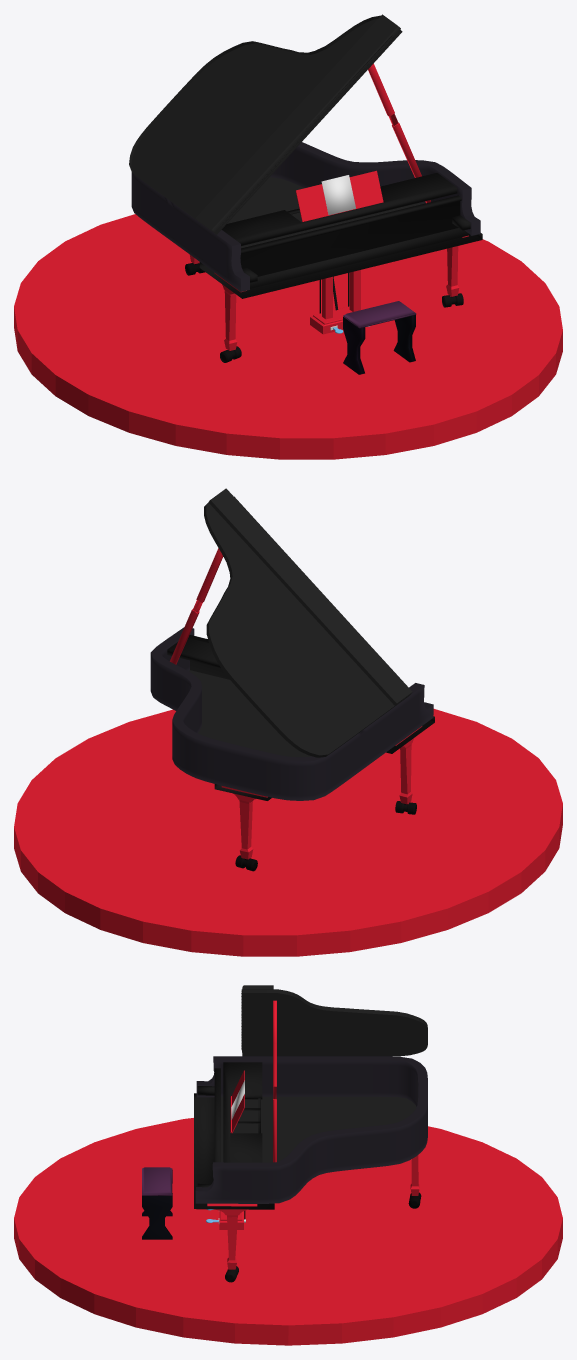
The model's file is piyanocn.glb.
3 views of the same model, one above another, from view 1: azimuth 30°, elevation 25°; view 2: azimuth 150°, elevation 25°; view 3: azimuth 270°, elevation 25° (orthographic). The views are drawn at different scales.
Visible parts, largest first — view 1: Cylinder.009, Cylinder.008, Plane, Cube, Cube.001, Plane.002, Cube.006, Plane.005, Plane.003, Cube.009, Cube.012, Cube.013 (+2 smaller); view 2: Cylinder.009, Cylinder.008, Cube, Cube.001, Plane, Cube.009, Cube.005, Cube.003; view 3: Cylinder.009, Cube, Cylinder.008, Cube.001, Plane, Cube.013, Plane.005, Cube.004, Cube.009.
Boxes of the visible parts, box(x1,y1,x2,y2) form: Cylinder.009: box(14, 214, 562, 459); Cylinder.008: box(129, 14, 402, 234); Plane: box(199, 173, 482, 298); Cube: box(131, 142, 480, 291); Cube.001: box(227, 177, 423, 248); Plane.002: box(295, 170, 383, 221); Cube.006: box(310, 270, 365, 334); Plane.005: box(343, 301, 416, 328); Plane.003: box(321, 175, 355, 215); Cube.009: box(368, 63, 430, 203); Cube.012: box(343, 317, 365, 374); Cube.013: box(393, 315, 415, 362); Cylinder.009: box(14, 709, 562, 956); Cylinder.008: box(204, 488, 412, 757); Cube: box(150, 627, 433, 800); Cube.001: box(189, 670, 311, 757); Plane: box(152, 635, 434, 800); Cube.009: box(170, 548, 223, 664); Cube.005: box(221, 786, 267, 859); Cube.003: box(395, 726, 422, 804); Cylinder.009: box(14, 1118, 562, 1345); Cube: box(195, 1056, 427, 1203); Cylinder.008: box(241, 985, 427, 1056); Cube.001: box(221, 1096, 416, 1162); Plane: box(194, 1062, 274, 1209); Cube.013: box(142, 1193, 172, 1239); Plane.005: box(142, 1167, 172, 1195); Cube.004: box(207, 1203, 257, 1269); Cube.009: box(273, 1000, 276, 1162).
Bounding box in the file's own units: 33.28 × 21.16 × 35.99.
